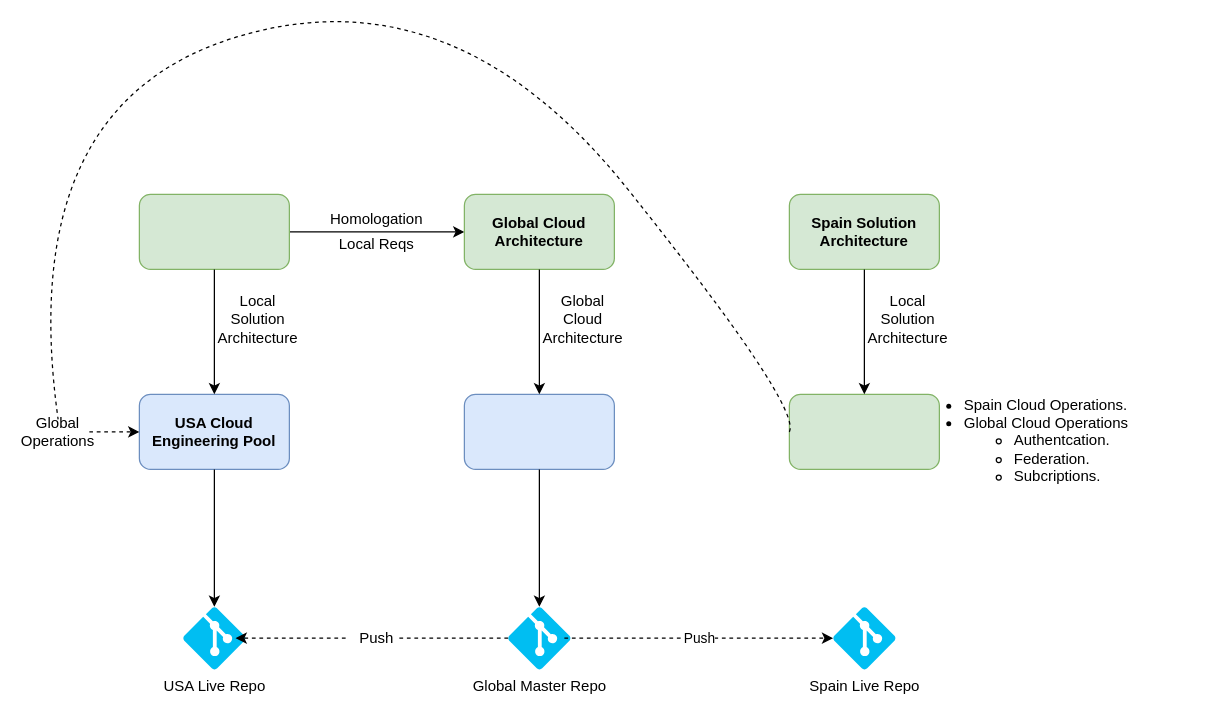
This 1224x718 diagram has some shape labels left out. The centre of each missing label's shape, as x and y in pixels:
Global Cloud Architecture Pool: the point at 538,431
Spain Cloud Engineering Pool: the point at 863,431
USA Solution Architecture: the point at 213,231
